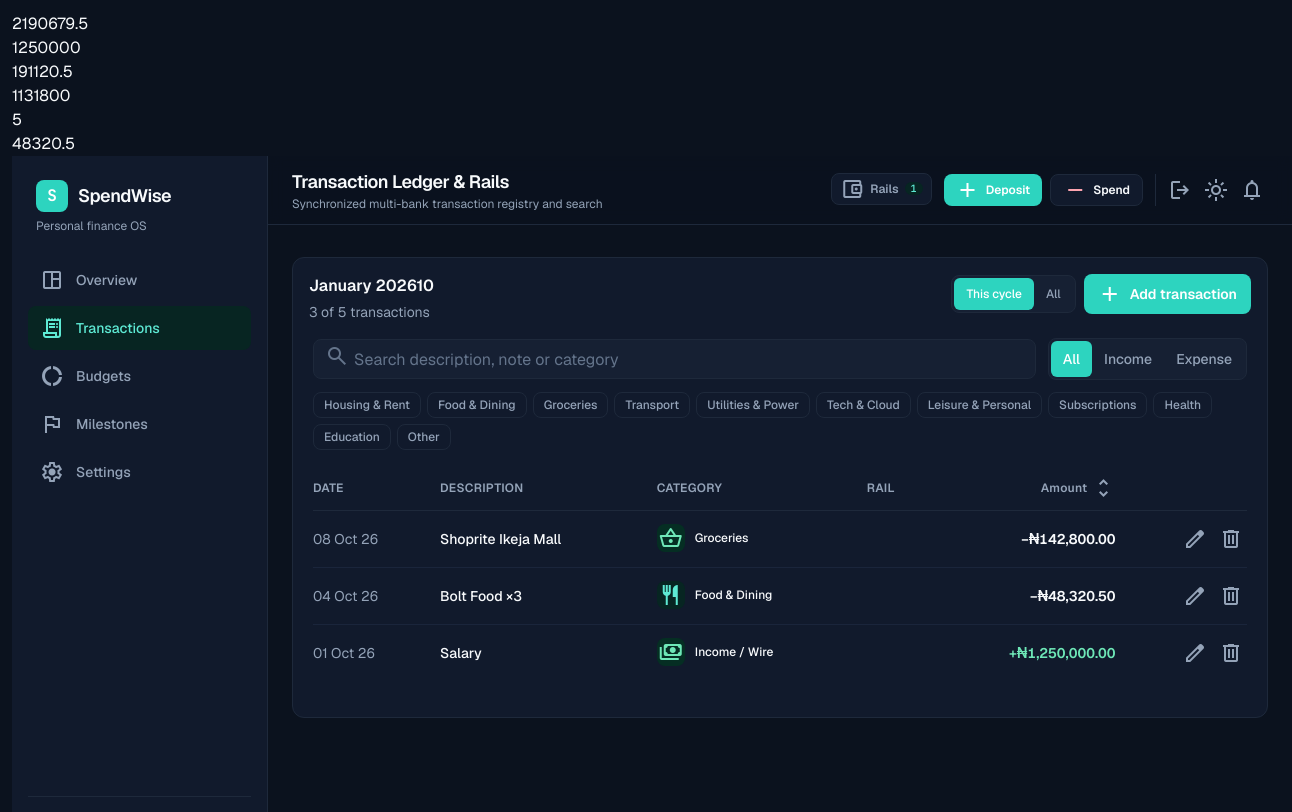
Test: ledger integration › filters locally without refetching
The width and height of the screenshot is (1292, 812).
Check: the text "Bolt Food ×3" is shown, box 440,586 -> 522,606
Type "Shoprite" into the search field named "search transactions". click: {"x": 674, "y": 359}
box: 313,339 -> 1036,379
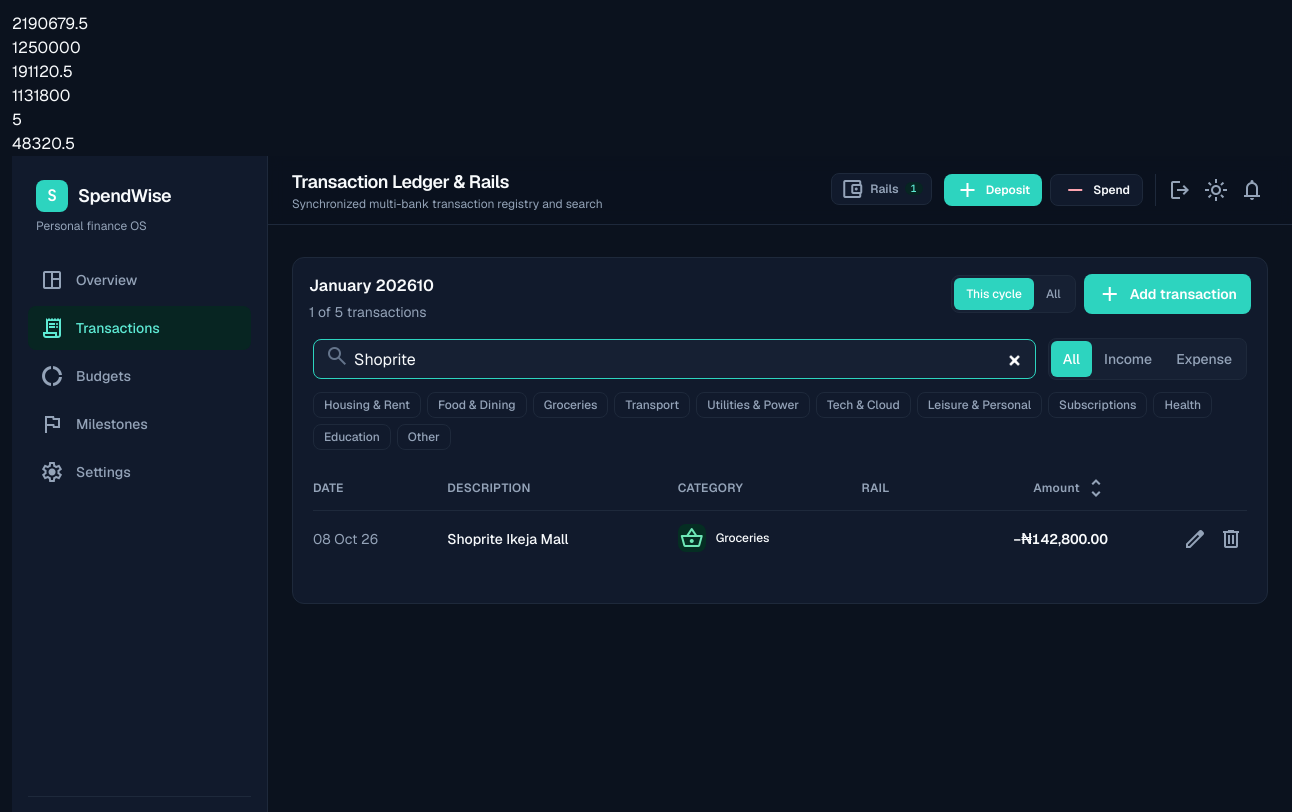
Check: the text "Shoprite Ikeja Mall" is shown, box 447,529 -> 568,549
Check: the text "Bolt Food ×3" is not shown
